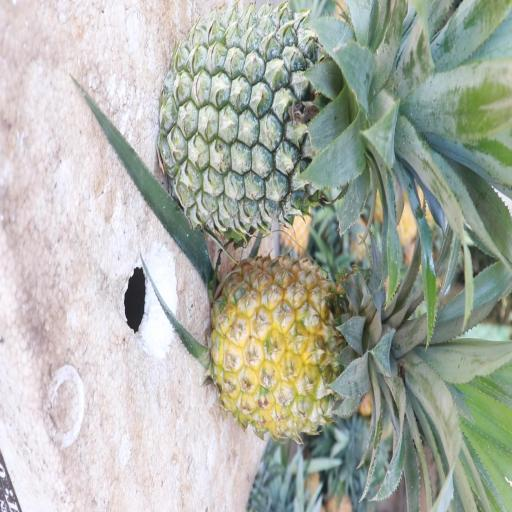Pineapple - v8 v1: (212, 252, 478, 508)
